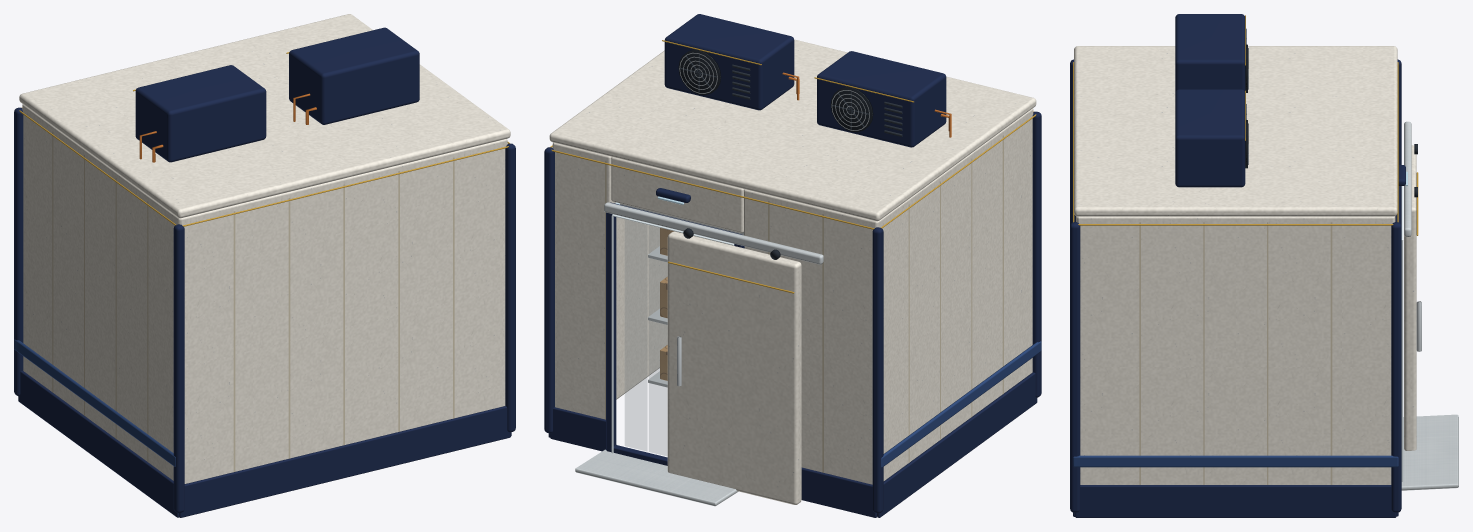
Rendered from coldroom_T3.fbx.
The picture shows the model from 3 angles, left to right: view 1: azimuth 30°, elevation 25°; view 2: azimuth 150°, elevation 25°; view 3: azimuth 270°, elevation 25°; orthographic projection.
Visible parts, largest first — view 1: Body; view 2: Body; view 3: Body.
Boxes of the visible parts, bbox=[...] form: Body: bbox=[14, 14, 515, 517]; Body: bbox=[544, 14, 1041, 517]; Body: bbox=[1070, 14, 1458, 517].
Size of the model in its own units: 3.11 by 3.14 by 3.05.
